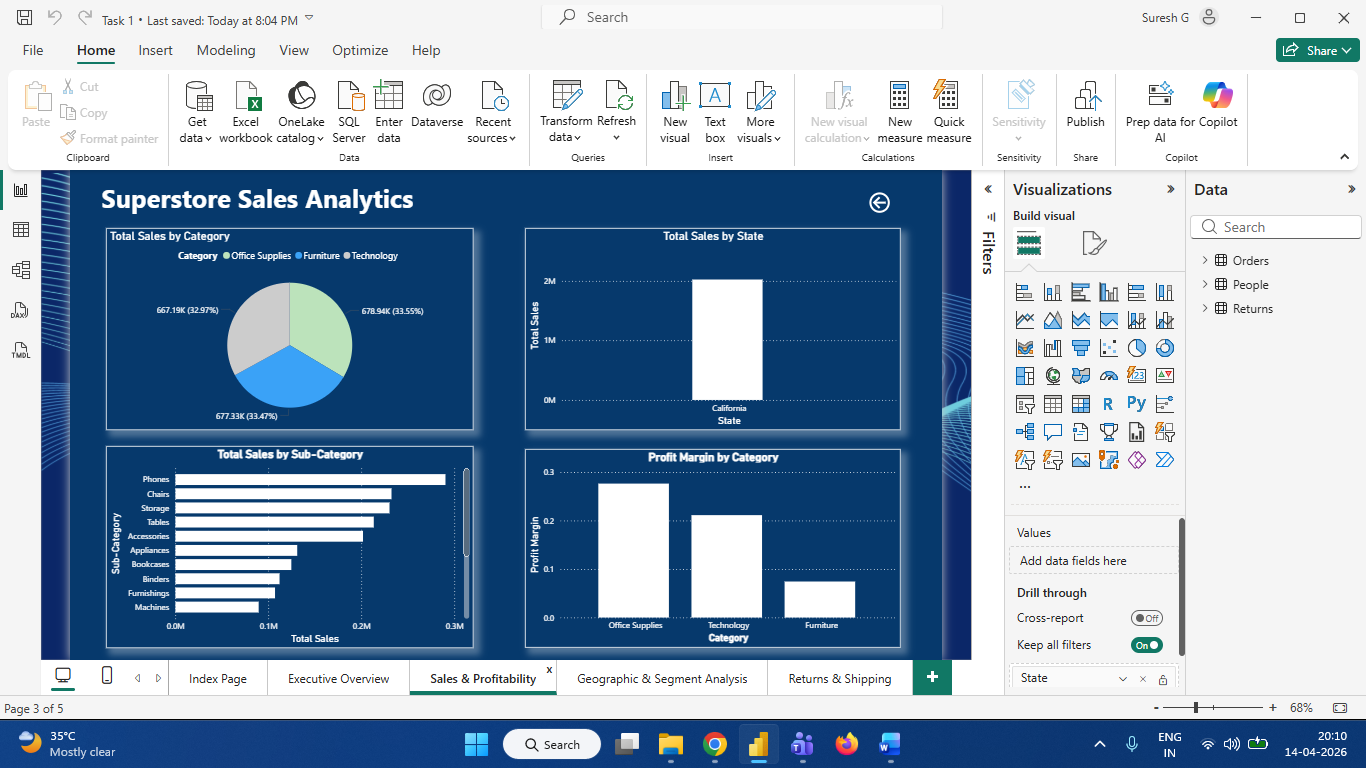

Layout of this report page (visuals, bound fields, positions):
{"tool":"powerbi","page":{"name":"Sales & Profitability","canvas":[1280,720],"ordinal":2},"visuals":[{"type":"textbox","box":[0,10,1031.7,75],"z":0},{"type":"barChart","fields":{"Y":["Orders.Total Sales"],"Category":["Orders.Sub-Category"]},"box":[53.3,405,540,296.7],"z":1000},{"type":"clusteredColumnChart","fields":{"Category":["Orders.State"],"Y":["Orders.Total Sales"]},"box":[668.3,85,551.7,296.7],"z":2000},{"type":"actionButton","box":[1170,28.3,100,40],"z":3000},{"type":"clusteredColumnChart","fields":{"Category":["Orders.Category"],"Y":["Orders.Profit Margin"]},"box":[668.3,410,551.7,291.7],"z":4000},{"type":"pieChart","fields":{"Y":["Orders.Total Sales"],"Category":["Orders.Category"]},"box":[53.3,85,540,296.7],"z":5000}]}

Visuals, with their boxes on the page's 1280x720 design canvas (x1, y1, x2, y2). These are canvas units, not pixel positions in the 1366x768 screenshot, which may show the page scaled, cropped or inside an application window:
textbox: {"left": 0, "top": 10, "right": 1032, "bottom": 85}
barChart - Orders.Total Sales x Orders.Sub-Category: {"left": 53, "top": 405, "right": 593, "bottom": 702}
clusteredColumnChart - Orders.State x Orders.Total Sales: {"left": 668, "top": 85, "right": 1220, "bottom": 382}
actionButton: {"left": 1170, "top": 28, "right": 1270, "bottom": 68}
clusteredColumnChart - Orders.Category x Orders.Profit Margin: {"left": 668, "top": 410, "right": 1220, "bottom": 702}
pieChart - Orders.Total Sales x Orders.Category: {"left": 53, "top": 85, "right": 593, "bottom": 382}
